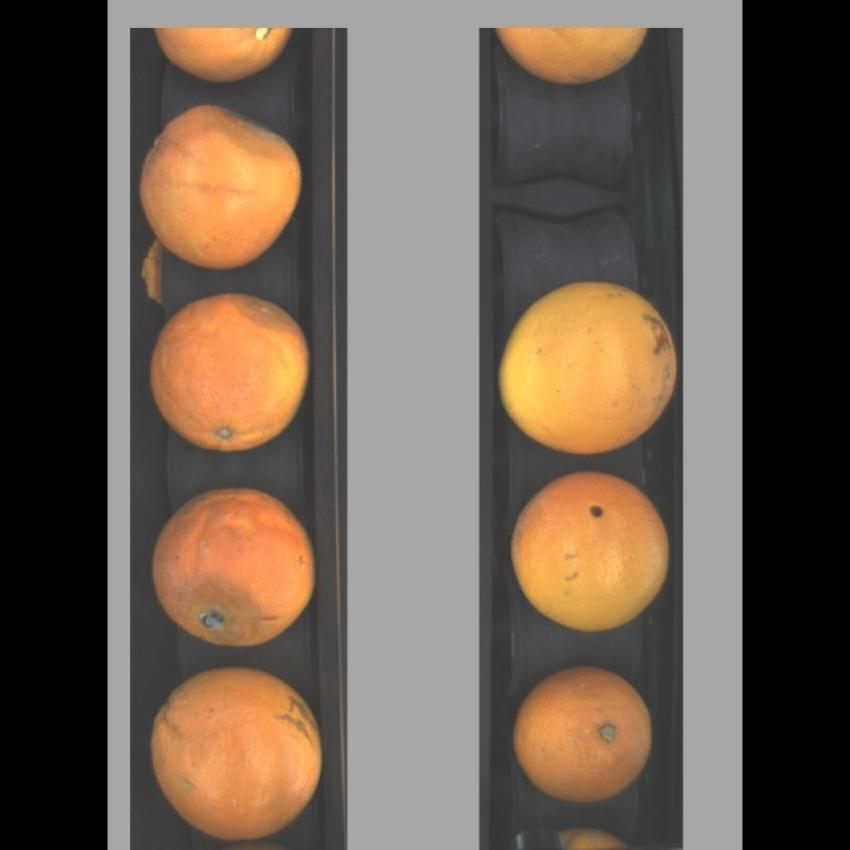Buen estado: (506, 472, 674, 630), (494, 29, 656, 93), (156, 31, 291, 84)
Mal estado: (145, 664, 327, 844), (498, 281, 684, 455), (137, 107, 306, 296), (147, 480, 315, 650), (147, 288, 309, 463), (512, 665, 659, 802)
